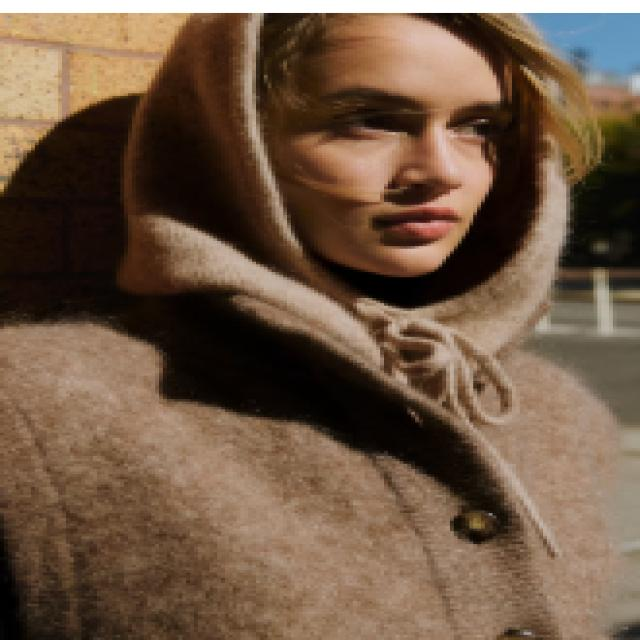4_capucha: (114, 12, 572, 387)
